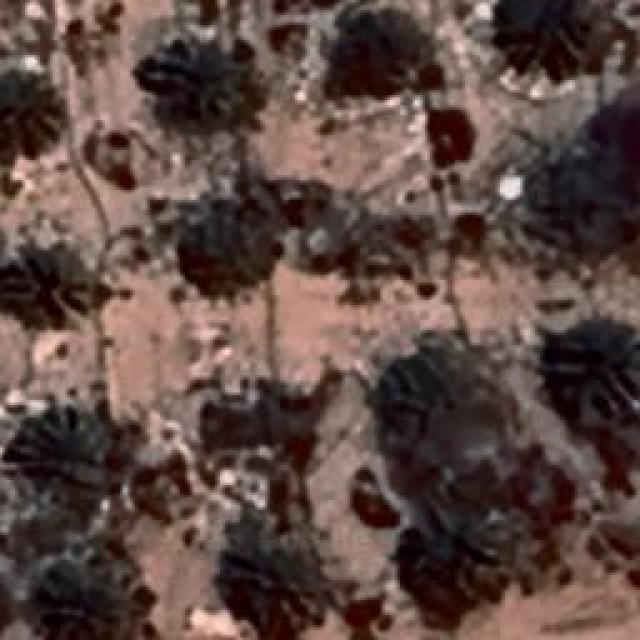PalmTree: (540, 324, 640, 434), (412, 518, 518, 604), (238, 535, 332, 630), (2, 242, 90, 330), (20, 398, 108, 480), (498, 0, 598, 70), (192, 205, 272, 283), (398, 355, 484, 425), (51, 572, 139, 638), (354, 18, 426, 96), (164, 49, 244, 109), (2, 74, 60, 152)
